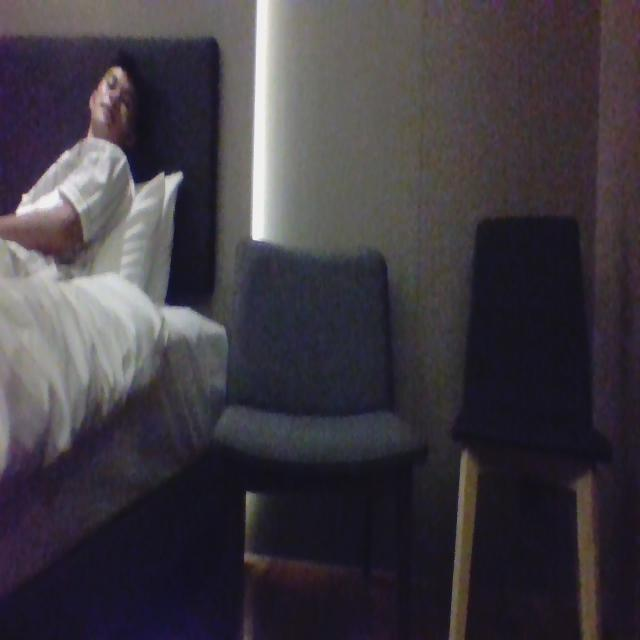empty: (217, 237, 415, 438), (458, 223, 610, 449)
